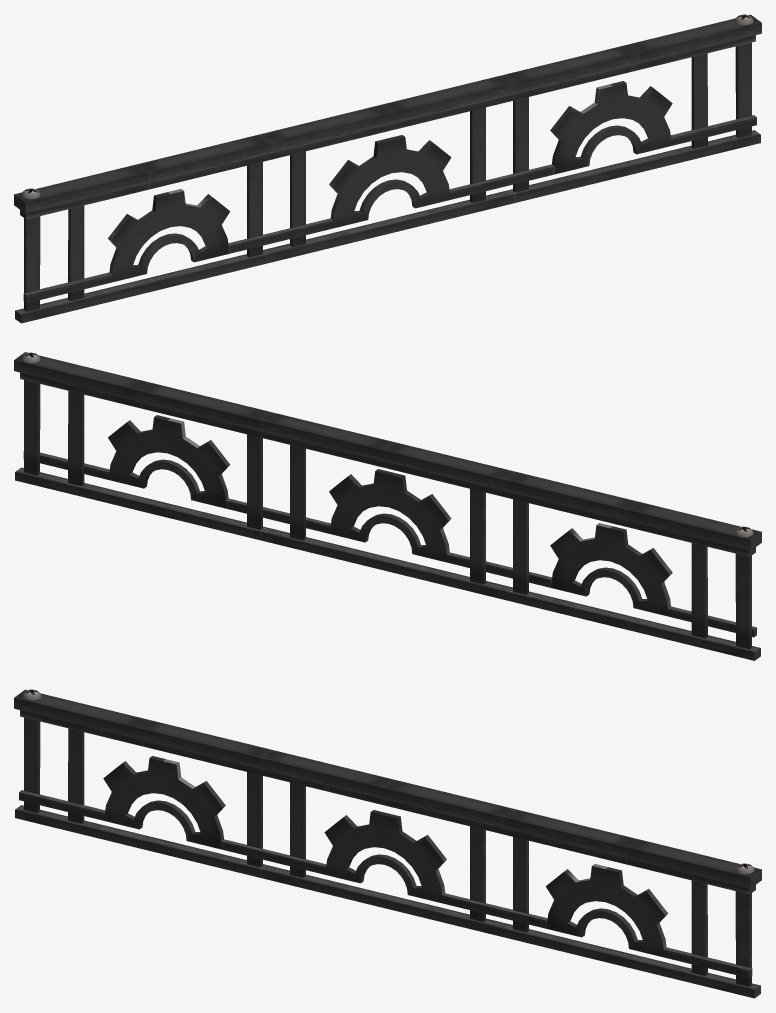
File: Ev_company_inner_fence.fbx
The picture shows the model from 3 angles, top to bottom: view 1: azimuth 30°, elevation 25°; view 2: azimuth 150°, elevation 25°; view 3: azimuth 330°, elevation 25°; orthographic projection.
Visible parts, largest first — view 1: Ev_company_inner_fence; view 2: Ev_company_inner_fence; view 3: Ev_company_inner_fence.
Boxes of the visible parts, x1,y1,x2,y2 form: Ev_company_inner_fence: [14, 14, 761, 323]; Ev_company_inner_fence: [14, 352, 761, 660]; Ev_company_inner_fence: [14, 689, 761, 998].
Size of the model in its own units: 347 by 9.1 by 57.17.
